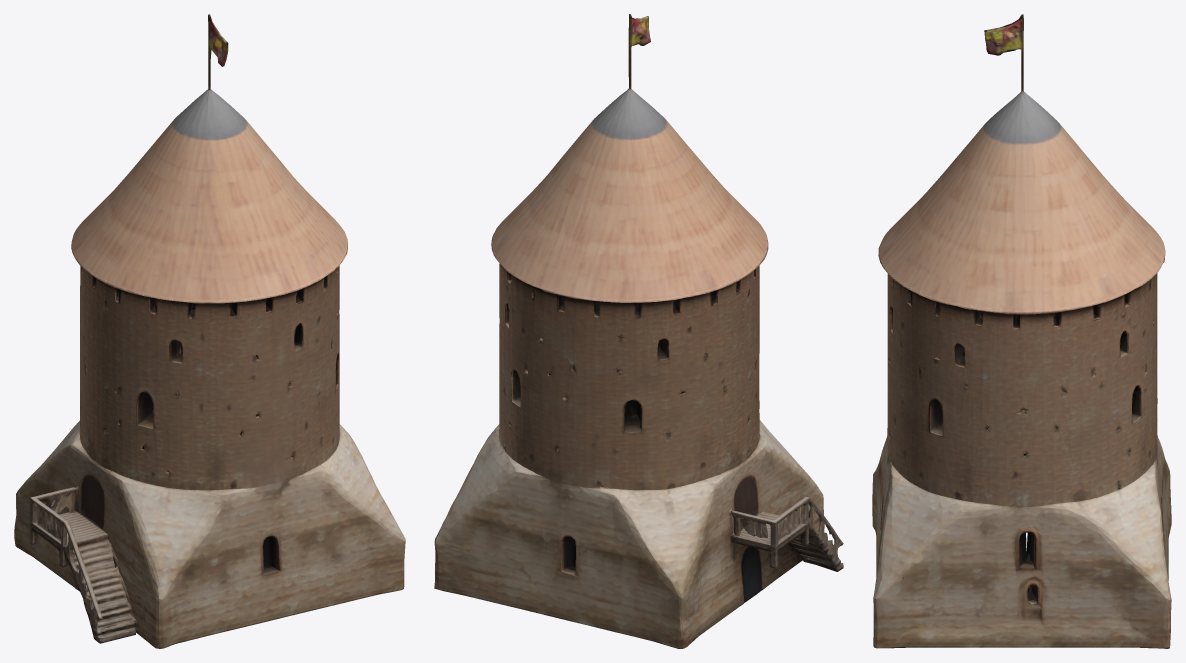
File: PartObjaverseTiny_Seven.glb
3 views of the same model, side by side, from view 1: azimuth 30°, elevation 25°; view 2: azimuth 150°, elevation 25°; view 3: azimuth 270°, elevation 25° (orthographic). The views are drawn at different scales.
Visible parts, largest first — view 1: world; view 2: world; view 3: world.
Boxes of the visible parts, bbox=[...] form: world: bbox=[14, 14, 405, 648]; world: bbox=[434, 14, 843, 648]; world: bbox=[872, 14, 1171, 648].
Bounding box in the file's own units: 0.5459 × 0.9988 × 0.4741.
Materials: 1 (1 with a texture image).
